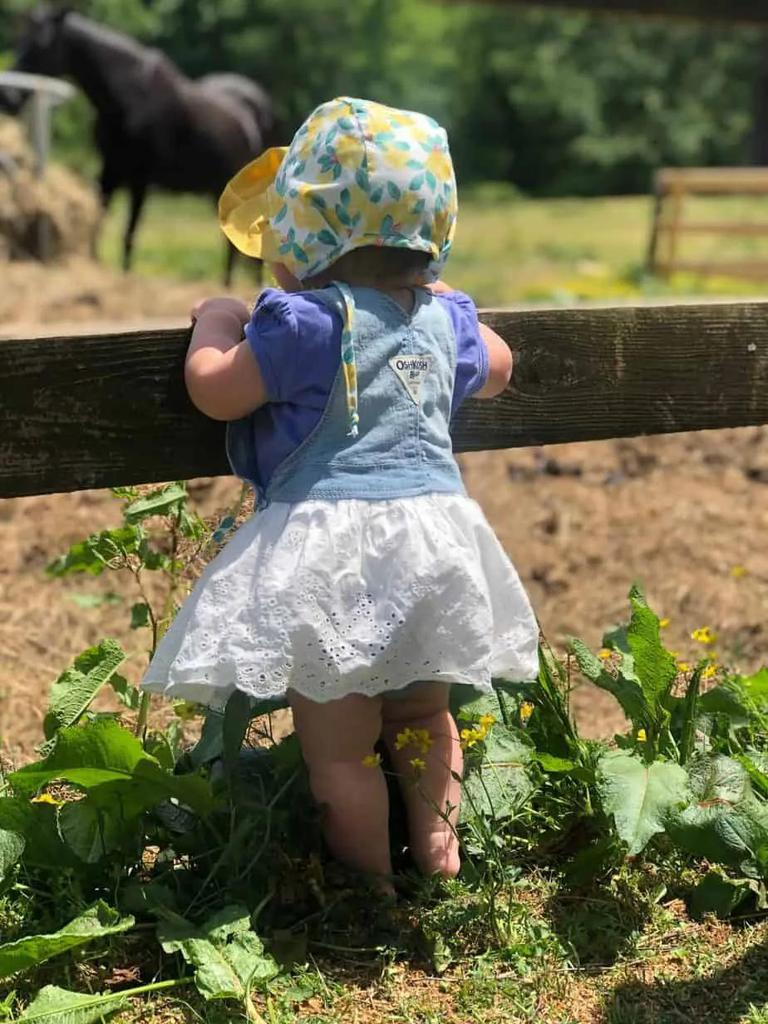child: (129, 89, 550, 925)
